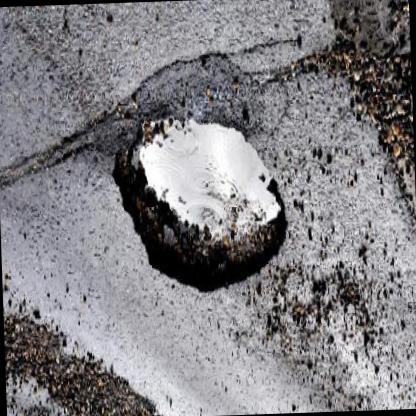pothole: (107, 114, 294, 304)
